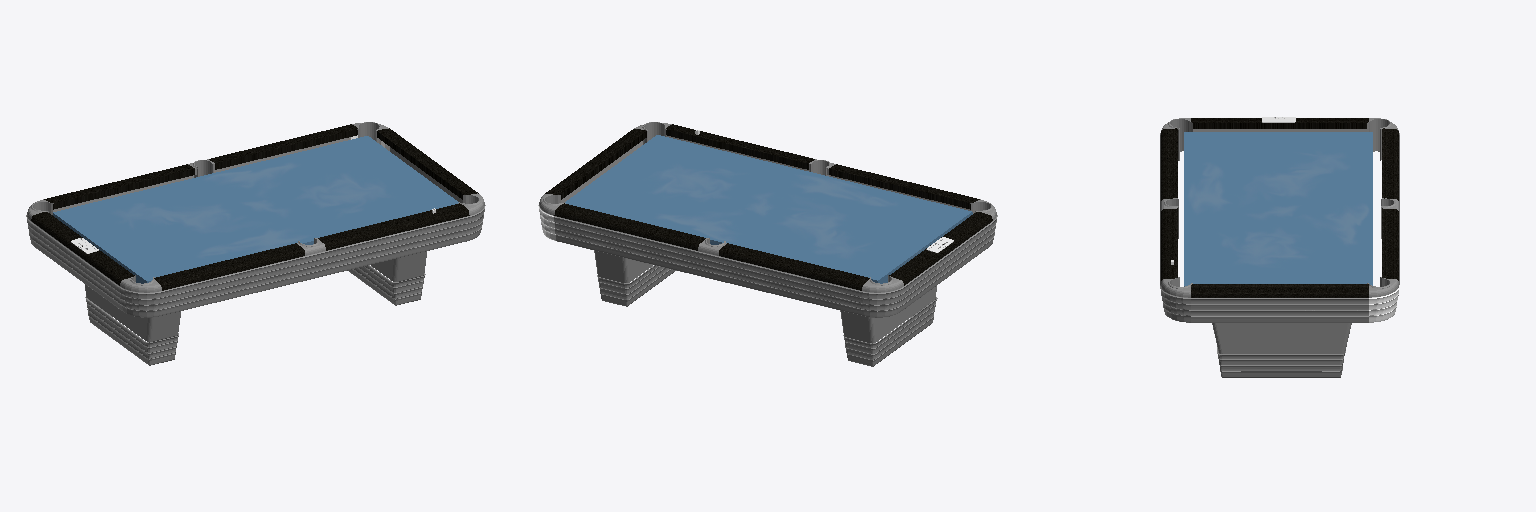
The picture shows the model from 3 angles: view 1: azimuth 30°, elevation 25°; view 2: azimuth 150°, elevation 25°; view 3: azimuth 270°, elevation 25°; orthographic projection.
Visible parts, largest first — view 1: Box01, objSIDE01, objleg01, objleg02, objSIDEWOOD05, objSIDEWOOD04, objSIDE04, objSIDEWOOD02, objSIDEWOOD03, objSIDEWOOD01, objSIDEWOOD06, objCORNER04 (+1 smaller); view 2: Box01, objSIDE02, objleg01, objleg02, objSIDEWOOD02, objSIDEWOOD03, objSIDE04, objSIDEWOOD05, objSIDEWOOD04, objSIDEWOOD01, objSIDEWOOD06, objCORNER03; view 3: Box01, objleg02, objSIDE03, objSIDEWOOD06, objSIDEWOOD01, objSIDEWOOD03, objSIDEWOOD02, objSIDEWOOD05, objSIDEWOOD04, objCORNER02, objCORNER01.
Part boxes in pixels (x1,y1,x2,y2): Box01: (53, 136, 458, 283); objSIDE01: (160, 216, 469, 315); objleg01: (85, 284, 180, 365); objleg02: (348, 251, 426, 305); objSIDEWOOD05: (154, 243, 304, 290); objSIDEWOOD04: (318, 203, 469, 250); objSIDE04: (31, 221, 122, 310); objSIDEWOOD02: (209, 124, 357, 169); objSIDEWOOD03: (44, 164, 194, 209); objSIDEWOOD01: (31, 212, 134, 285); objSIDEWOOD06: (377, 128, 478, 199); objCORNER04: (119, 286, 161, 317); Box01: (565, 135, 972, 283); objSIDE02: (554, 216, 863, 315); objleg01: (840, 286, 937, 366); objleg02: (594, 251, 675, 306); objSIDEWOOD02: (554, 203, 705, 250); objSIDEWOOD03: (719, 243, 869, 290); objSIDE04: (901, 221, 992, 310); objSIDEWOOD05: (829, 164, 979, 209); objSIDEWOOD04: (666, 124, 814, 169); objSIDEWOOD01: (889, 212, 992, 285); objSIDEWOOD06: (545, 129, 646, 199); objCORNER03: (862, 286, 904, 317); Box01: (1184, 132, 1372, 286); objleg02: (1212, 323, 1351, 377); objSIDE03: (1191, 298, 1368, 322); objSIDEWOOD06: (1191, 284, 1368, 297); objSIDEWOOD01: (1191, 118, 1368, 128); objSIDEWOOD03: (1382, 128, 1398, 200); objSIDEWOOD02: (1382, 208, 1398, 280); objSIDEWOOD05: (1161, 128, 1177, 200); objSIDEWOOD04: (1161, 208, 1177, 280); objCORNER02: (1160, 285, 1190, 322); objCORNER01: (1369, 285, 1399, 322).
Size of the model in its own units: 106 by 31.14 by 61.01.
Materials: 4 (2 with a texture image).